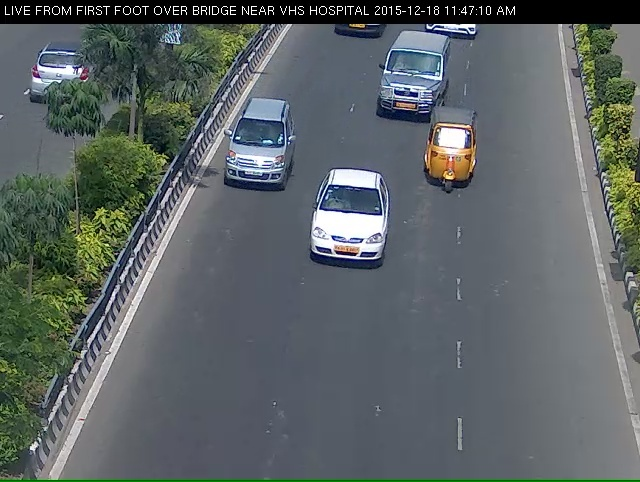Auto: (424, 115, 482, 209)
Car: (299, 186, 394, 297), (216, 104, 295, 211), (369, 37, 435, 125)
